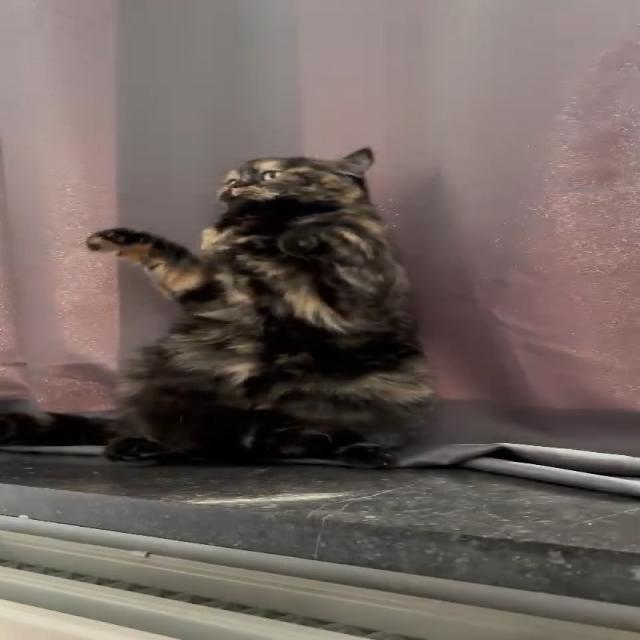authorized: (83, 145, 436, 469)
